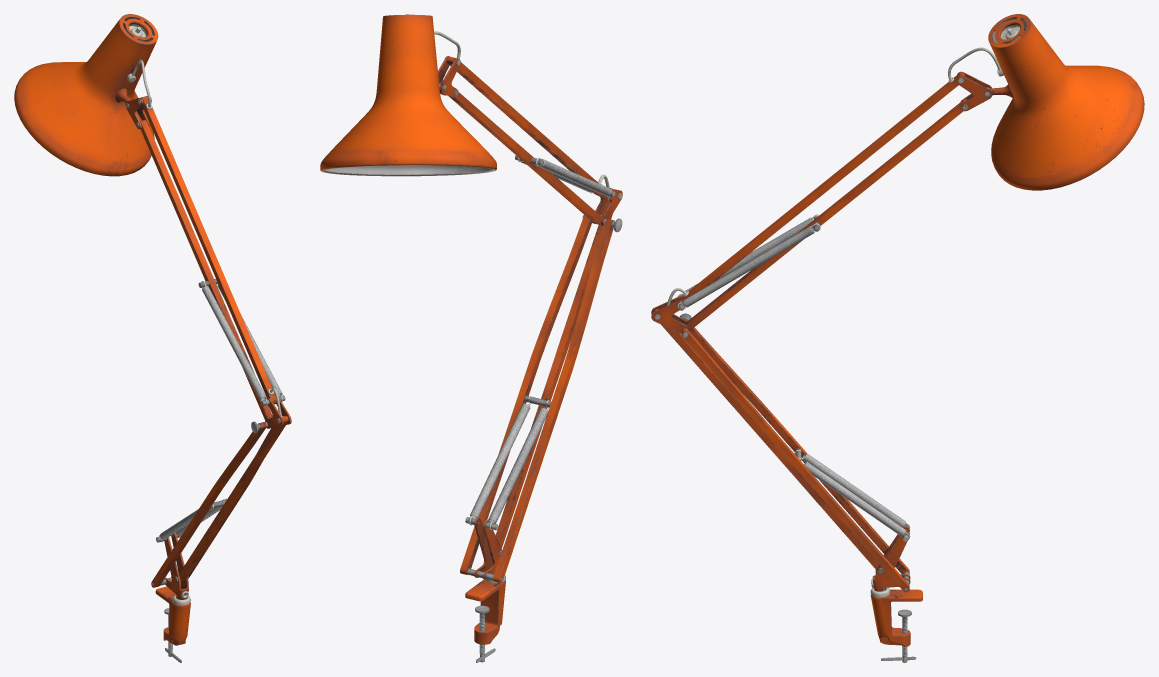
File: lampa.glb
The picture shows the model from 3 angles, left to right: view 1: azimuth 30°, elevation 25°; view 2: azimuth 150°, elevation 25°; view 3: azimuth 270°, elevation 25°; orthographic projection. The views are drawn at different scales.
Visible parts, largest first — view 1: desk_lamp_arm_01; view 2: desk_lamp_arm_01; view 3: desk_lamp_arm_01.
Boxes of the visible parts, <box> form: desk_lamp_arm_01: <box>14,14,291,662</box>; desk_lamp_arm_01: <box>320,14,622,662</box>; desk_lamp_arm_01: <box>651,14,1144,662</box>.
Bounding box in the file's own units: 0.2017 × 0.8926 × 0.6139.
Materials: 2 (2 with a texture image).
